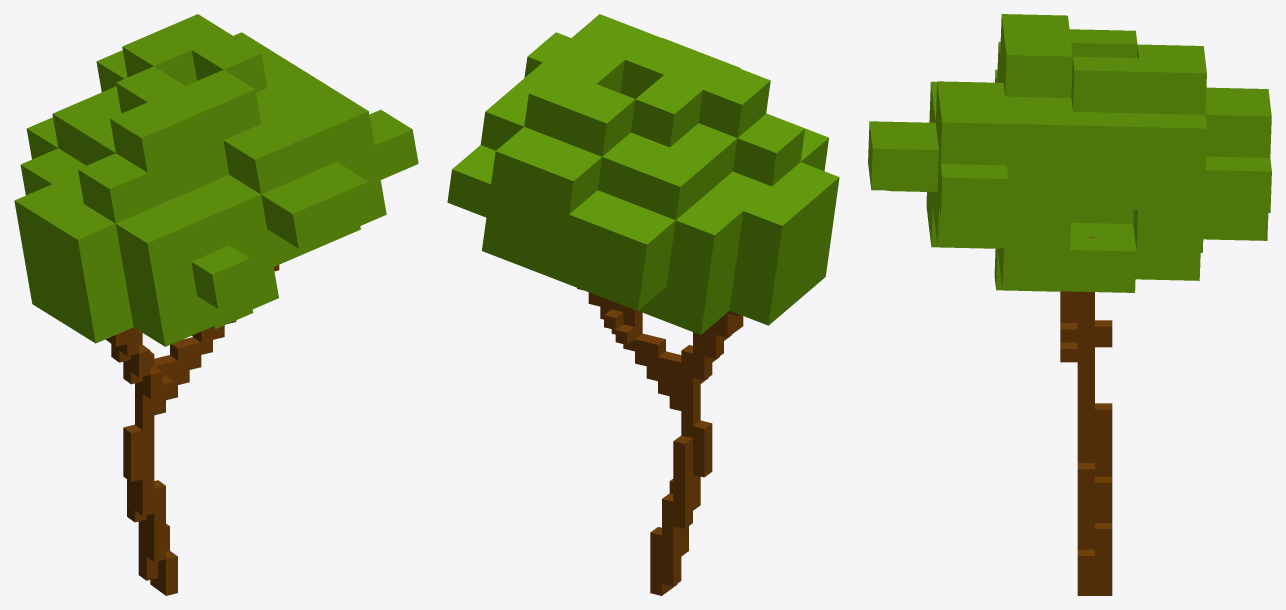
Rendered from Blockytree_04_green.glb.
3 views of the same model, side by side, from view 1: azimuth 30°, elevation 25°; view 2: azimuth 150°, elevation 25°; view 3: azimuth 270°, elevation 25° (orthographic). The views are drawn at different scales.
Parts seen in each view (by area): view 1: Blockytree_04_green_Wood_0; view 2: Blockytree_04_green_Wood_0; view 3: Blockytree_04_green_Wood_0.
Part boxes in pixels (box(x1,y1,x2,y2)): Blockytree_04_green_Wood_0: box(14, 14, 418, 595); Blockytree_04_green_Wood_0: box(447, 14, 839, 595); Blockytree_04_green_Wood_0: box(868, 14, 1271, 595).
Size of the model in its own units: 6.45 by 10.08 by 6.48.
